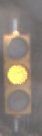Yellow: (1, 22, 39, 129)
